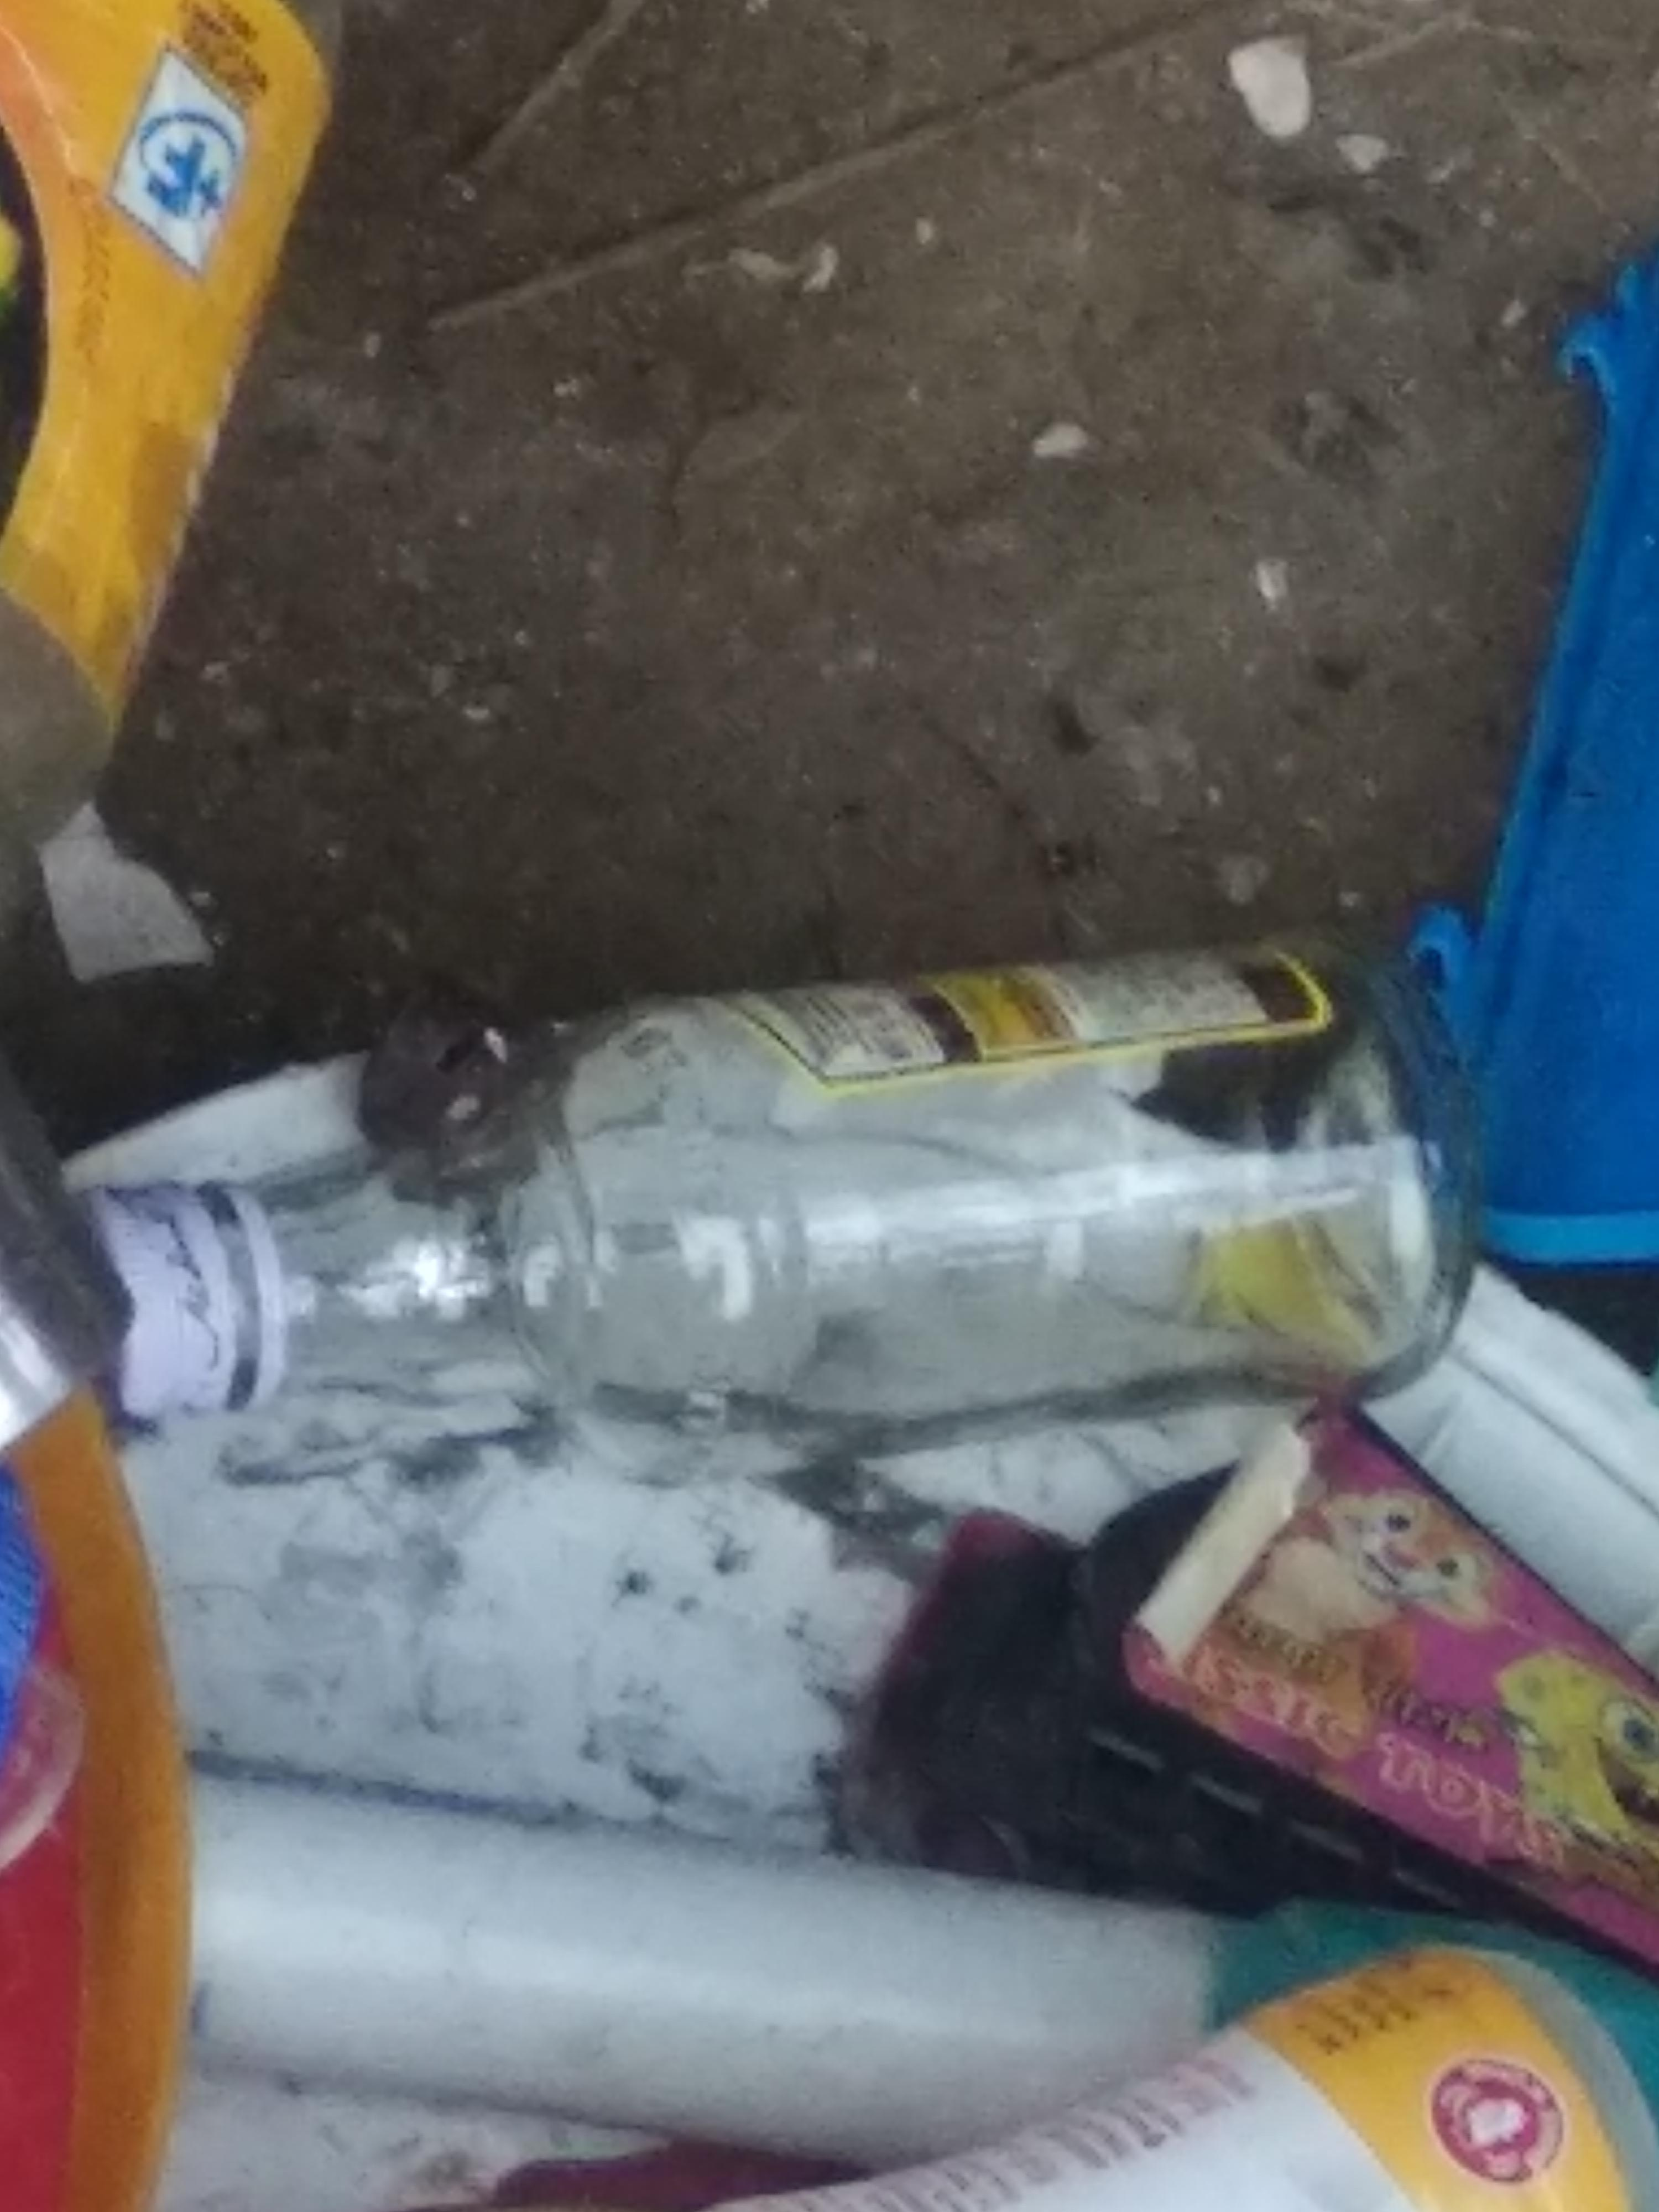trash: (0, 16, 1633, 2203)
